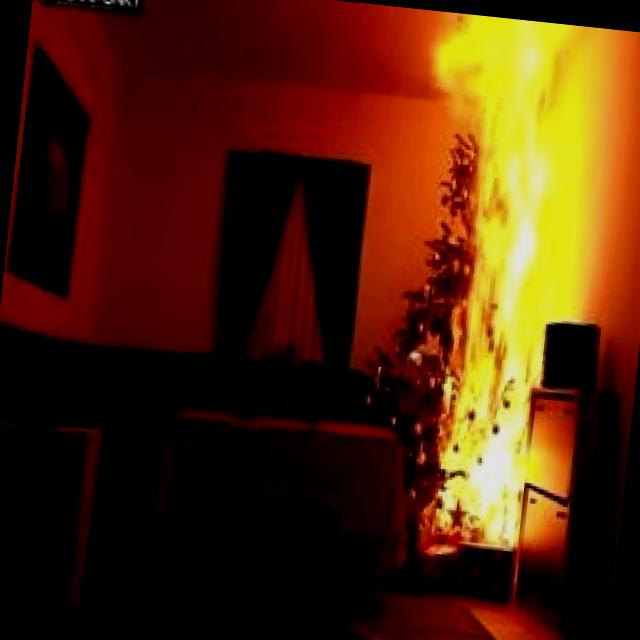fire: (368, 11, 640, 574)
